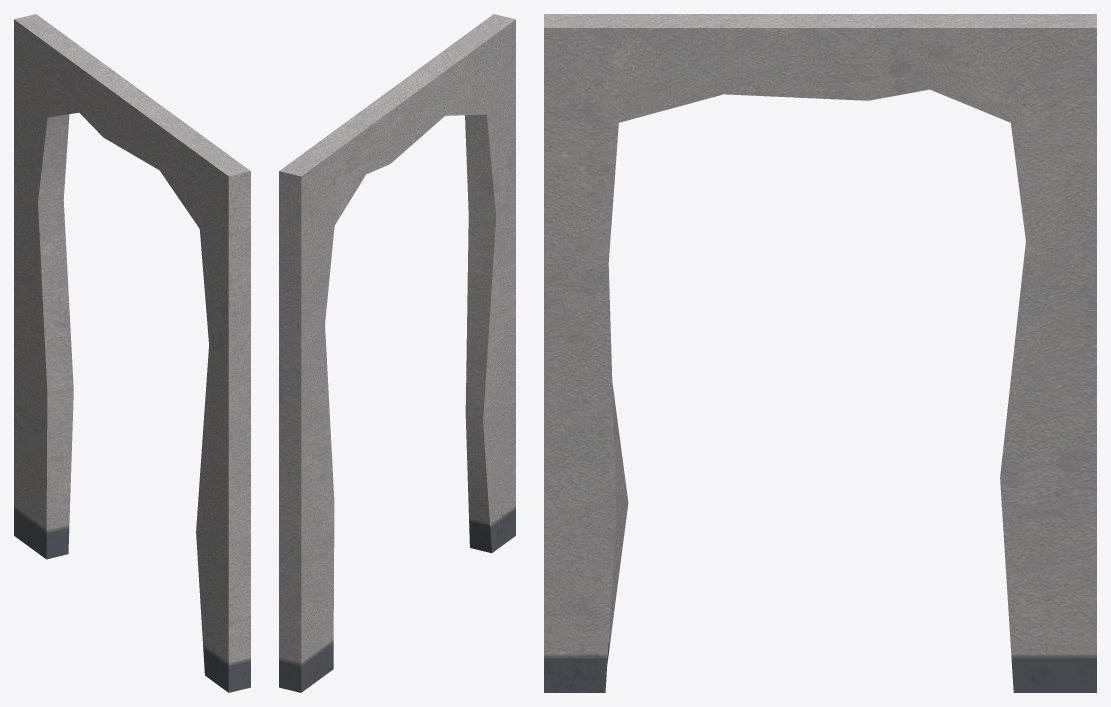
Rendered from WallBroken.fbx.
The picture shows the model from 3 angles, left to right: view 1: azimuth 30°, elevation 25°; view 2: azimuth 150°, elevation 25°; view 3: azimuth 270°, elevation 25°; orthographic projection. The views are drawn at different scales.
Parts seen in each view (by area): view 1: WallDoor_2_Type; view 2: WallDoor_2_Type; view 3: WallDoor_2_Type.
Boxes of the visible parts, <box> form: WallDoor_2_Type: <box>14,14,250,692</box>; WallDoor_2_Type: <box>279,14,515,692</box>; WallDoor_2_Type: <box>544,14,1096,692</box>.
Bounding box in the file's own units: 0.1461 × 3.27 × 2.46.
